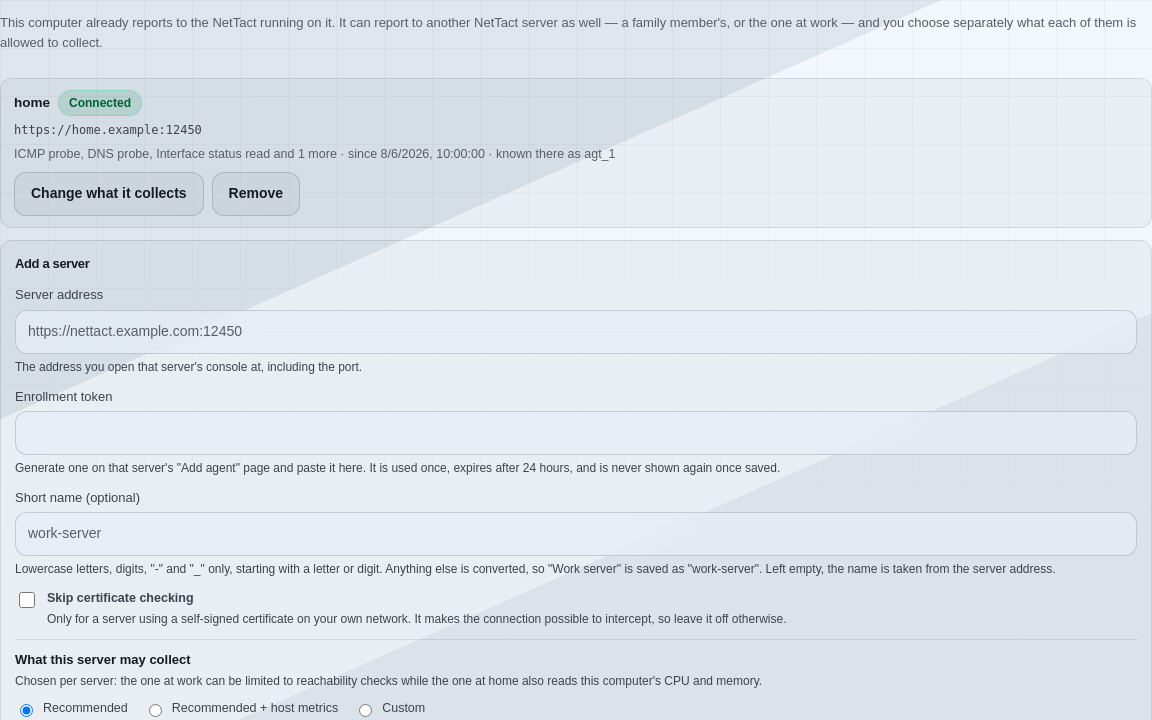
Test case: LocalAgentServers permission editing › seeds the editor from the row and PUTs the new set
The image size is (1152, 720).
Click the button with class "las-edit": {"x": 109, "y": 194} left=14, top=172, right=204, bottom=216
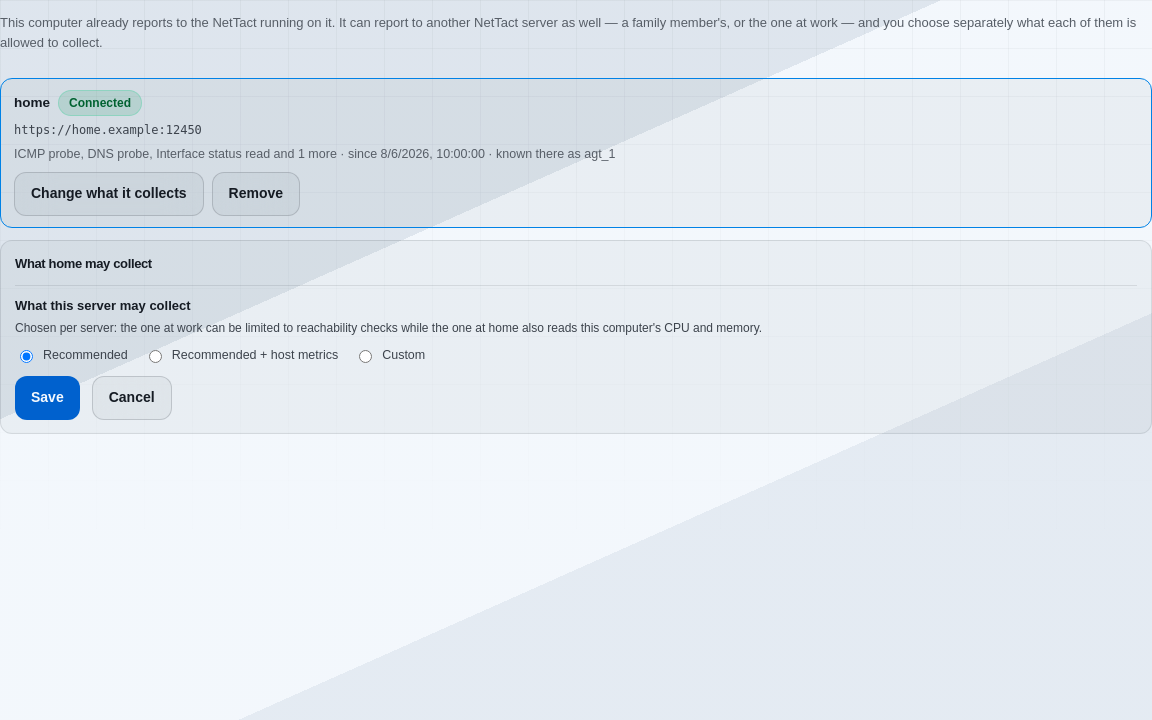
Expected: the radio button labelled "Recommended" is checked, left=20, top=350, right=33, bottom=363
Expected: the text "What home may collect" is shown, left=15, top=256, right=152, bottom=271
Click the radio button labelled "Recommended + host metrics": {"x": 155, "y": 357} left=149, top=350, right=162, bottom=363
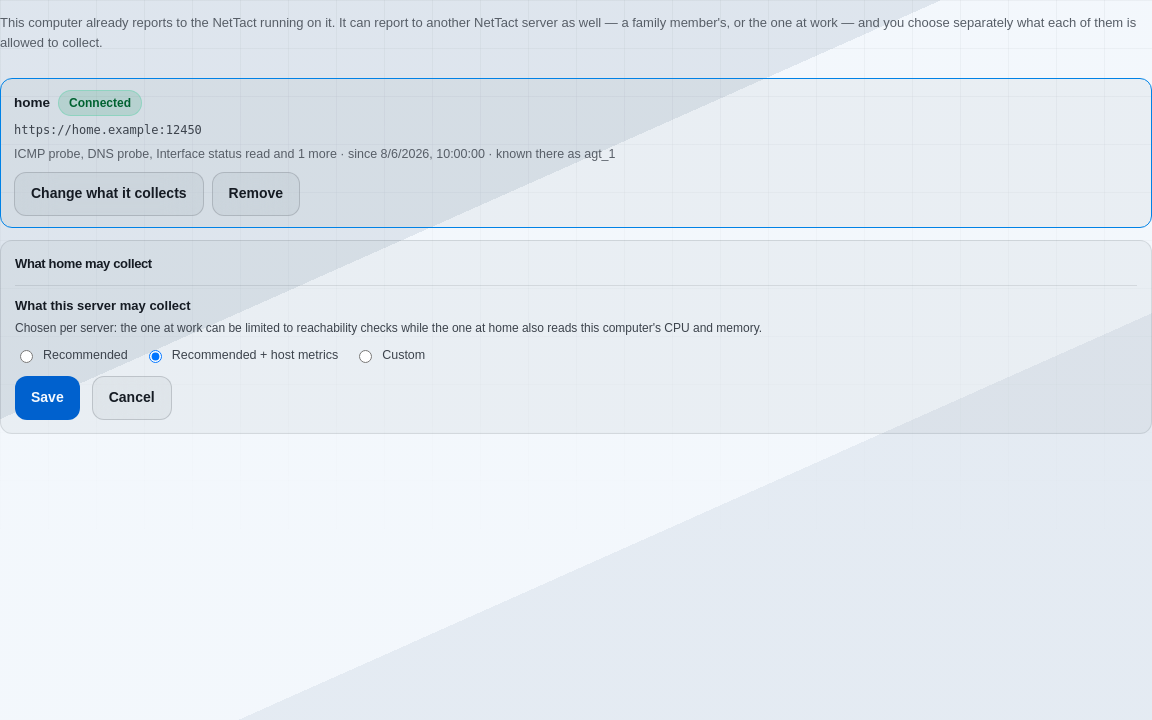
Click the button "Save": {"x": 47, "y": 398} left=15, top=376, right=80, bottom=420
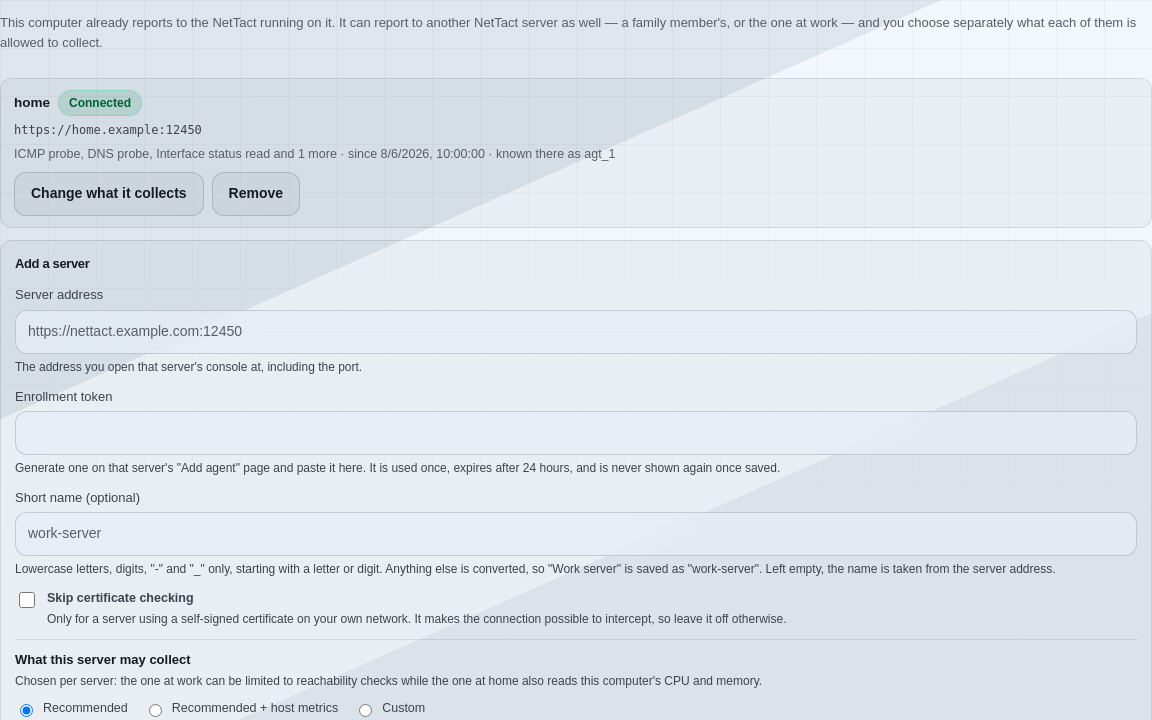
Expected: the field with class "las-token" is shown, left=15, top=411, right=1137, bottom=455
